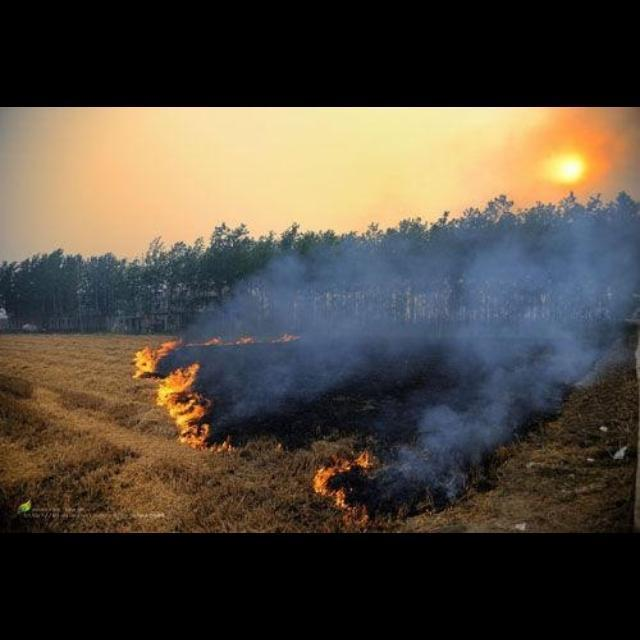Fire: (129, 331, 299, 453), (312, 449, 372, 525)
Smoke: (158, 206, 640, 500)
